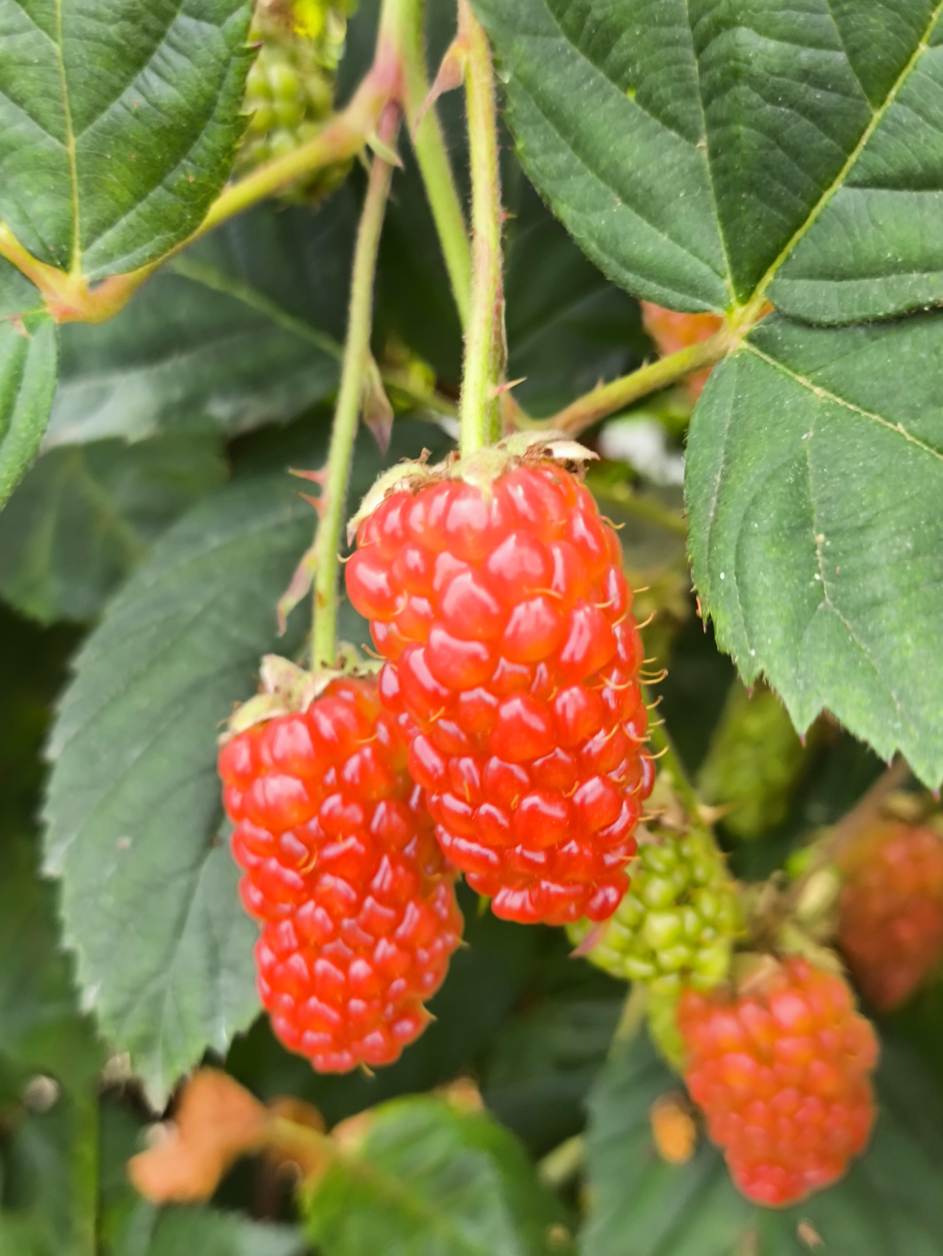naranja: (345, 458, 653, 924), (218, 676, 460, 1072), (679, 957, 878, 1207), (839, 818, 943, 1010)
verde: (568, 831, 742, 1055)
